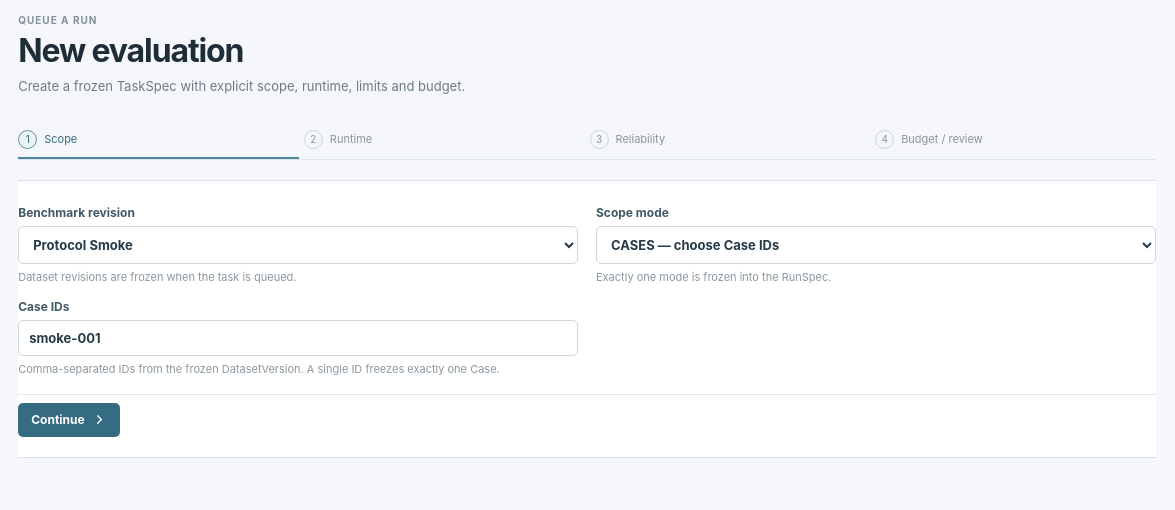
core operational pages › clears incompatible scope fields when the scope mode changes
The width and height of the screenshot is (1175, 510).
Select "SecRL" in the dropdown labelled "Benchmark revision" at (298, 245), box [18,226,578,264]
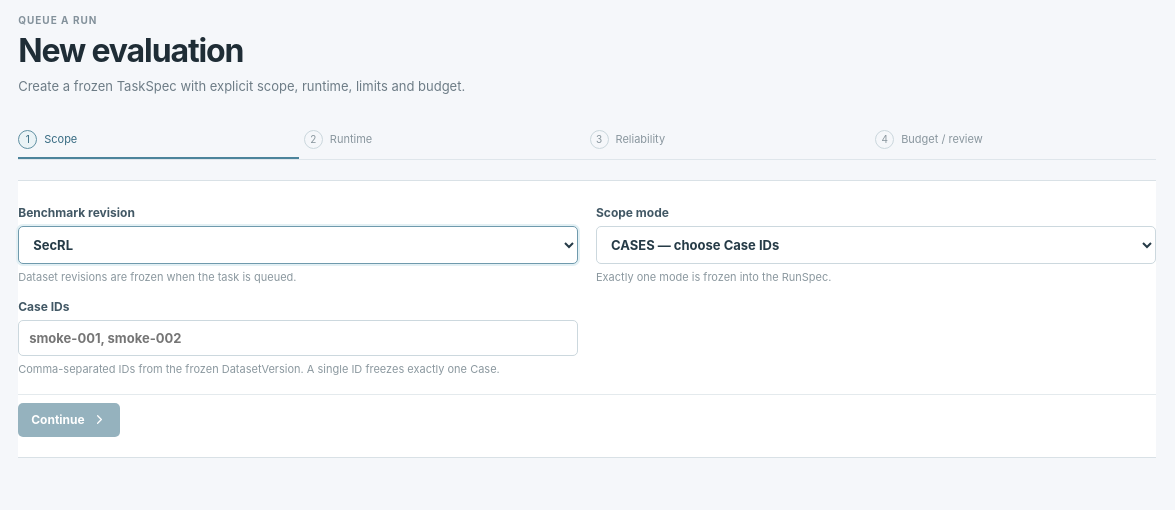
Type "case-1" into the field labelled "Case IDs" at (298, 338), box [18,320,578,356]
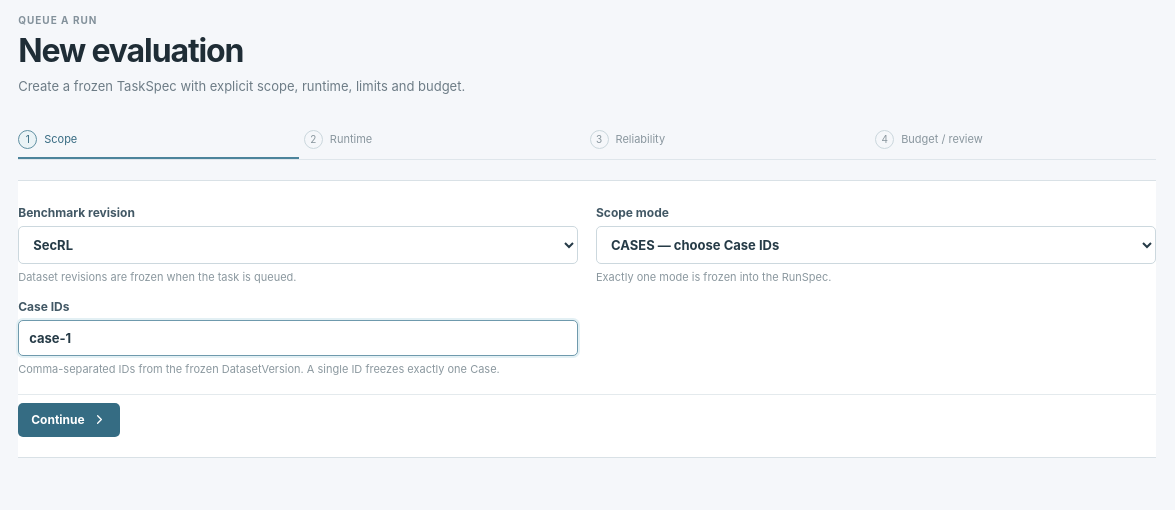
Select "INCIDENTS — choose complete Incidents" in the dropdown labelled "Scope mode" at (876, 245), box [596,226,1156,264]
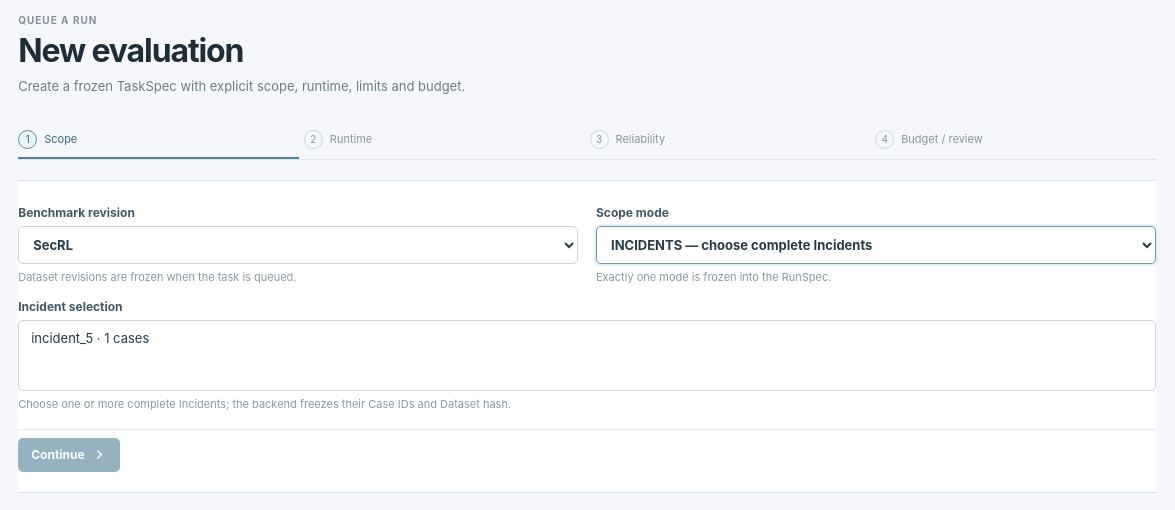
Select "ALL_BENCHMARK — use every Case" in the dropdown labelled "Scope mode" at (876, 245), box [596,226,1156,264]
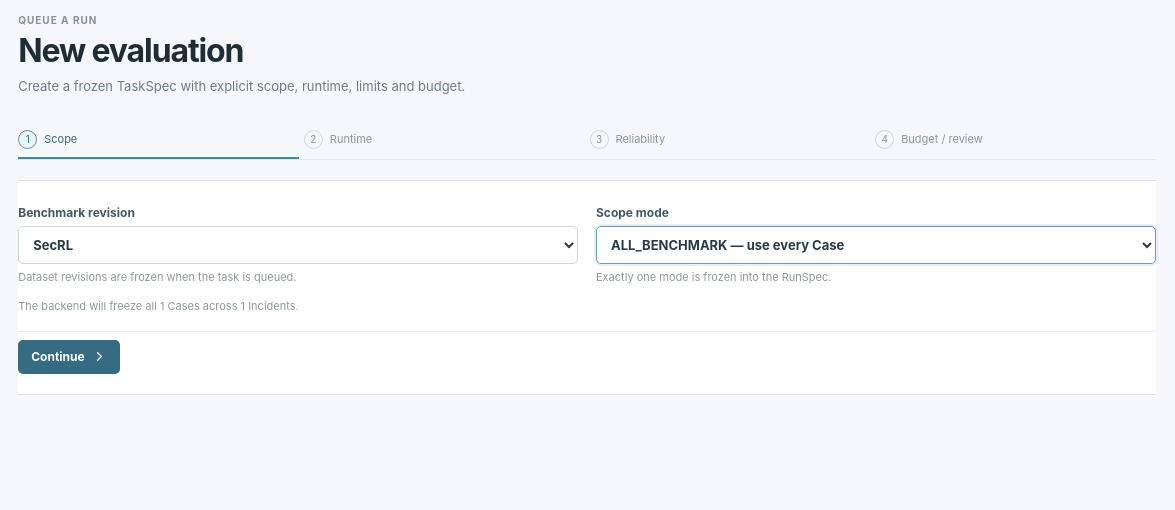
expect the label labelled "Incident selection" is gone: met
